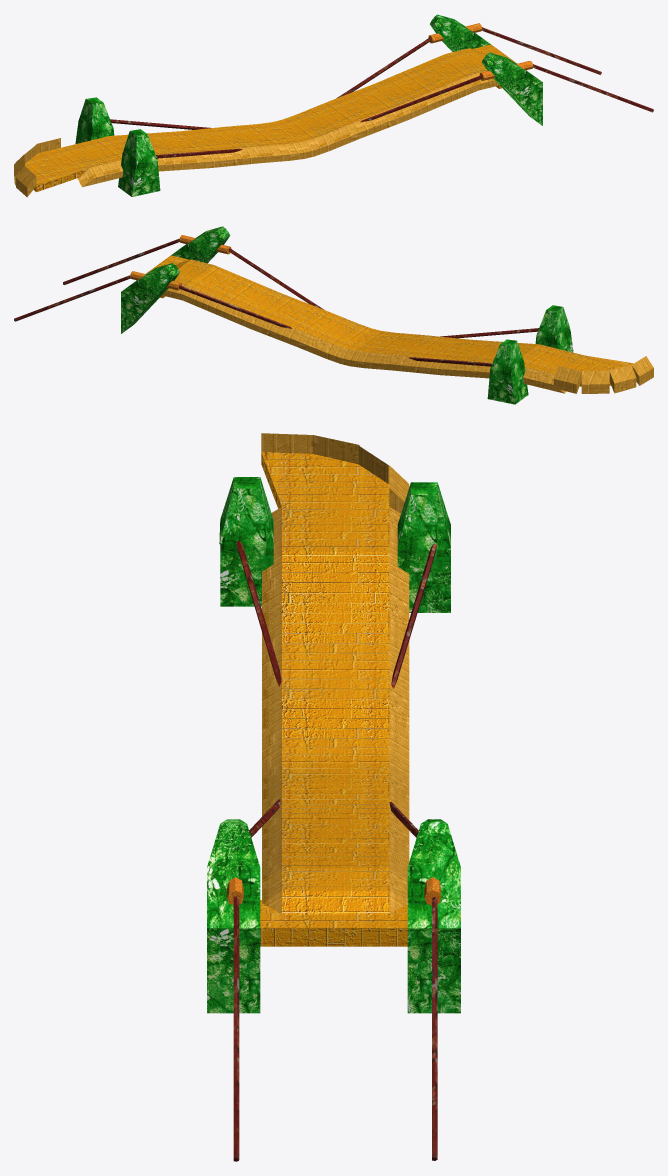
Rendered from bgropeleft.glb.
The picture shows the model from 3 angles, top to bottom: view 1: azimuth 30°, elevation 25°; view 2: azimuth 150°, elevation 25°; view 3: azimuth 270°, elevation 25°; orthographic projection. The views are drawn at different scales.
Visible parts, largest first — view 1: bgropeleft; view 2: bgropeleft; view 3: bgropeleft.
Part boxes in pixels (<box>): bgropeleft: <box>14,14,653,197</box>; bgropeleft: <box>14,226,653,404</box>; bgropeleft: <box>207,433,460,1161</box>.
Size of the model in its own units: 51.59 by 8.19 by 9.5.
5 materials, 5 textured.
